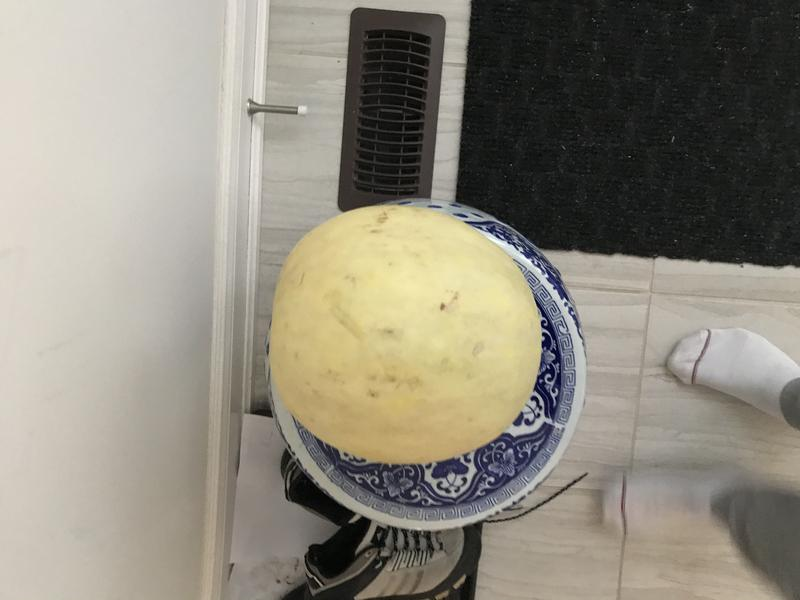honeydew: (258, 199, 550, 472)
